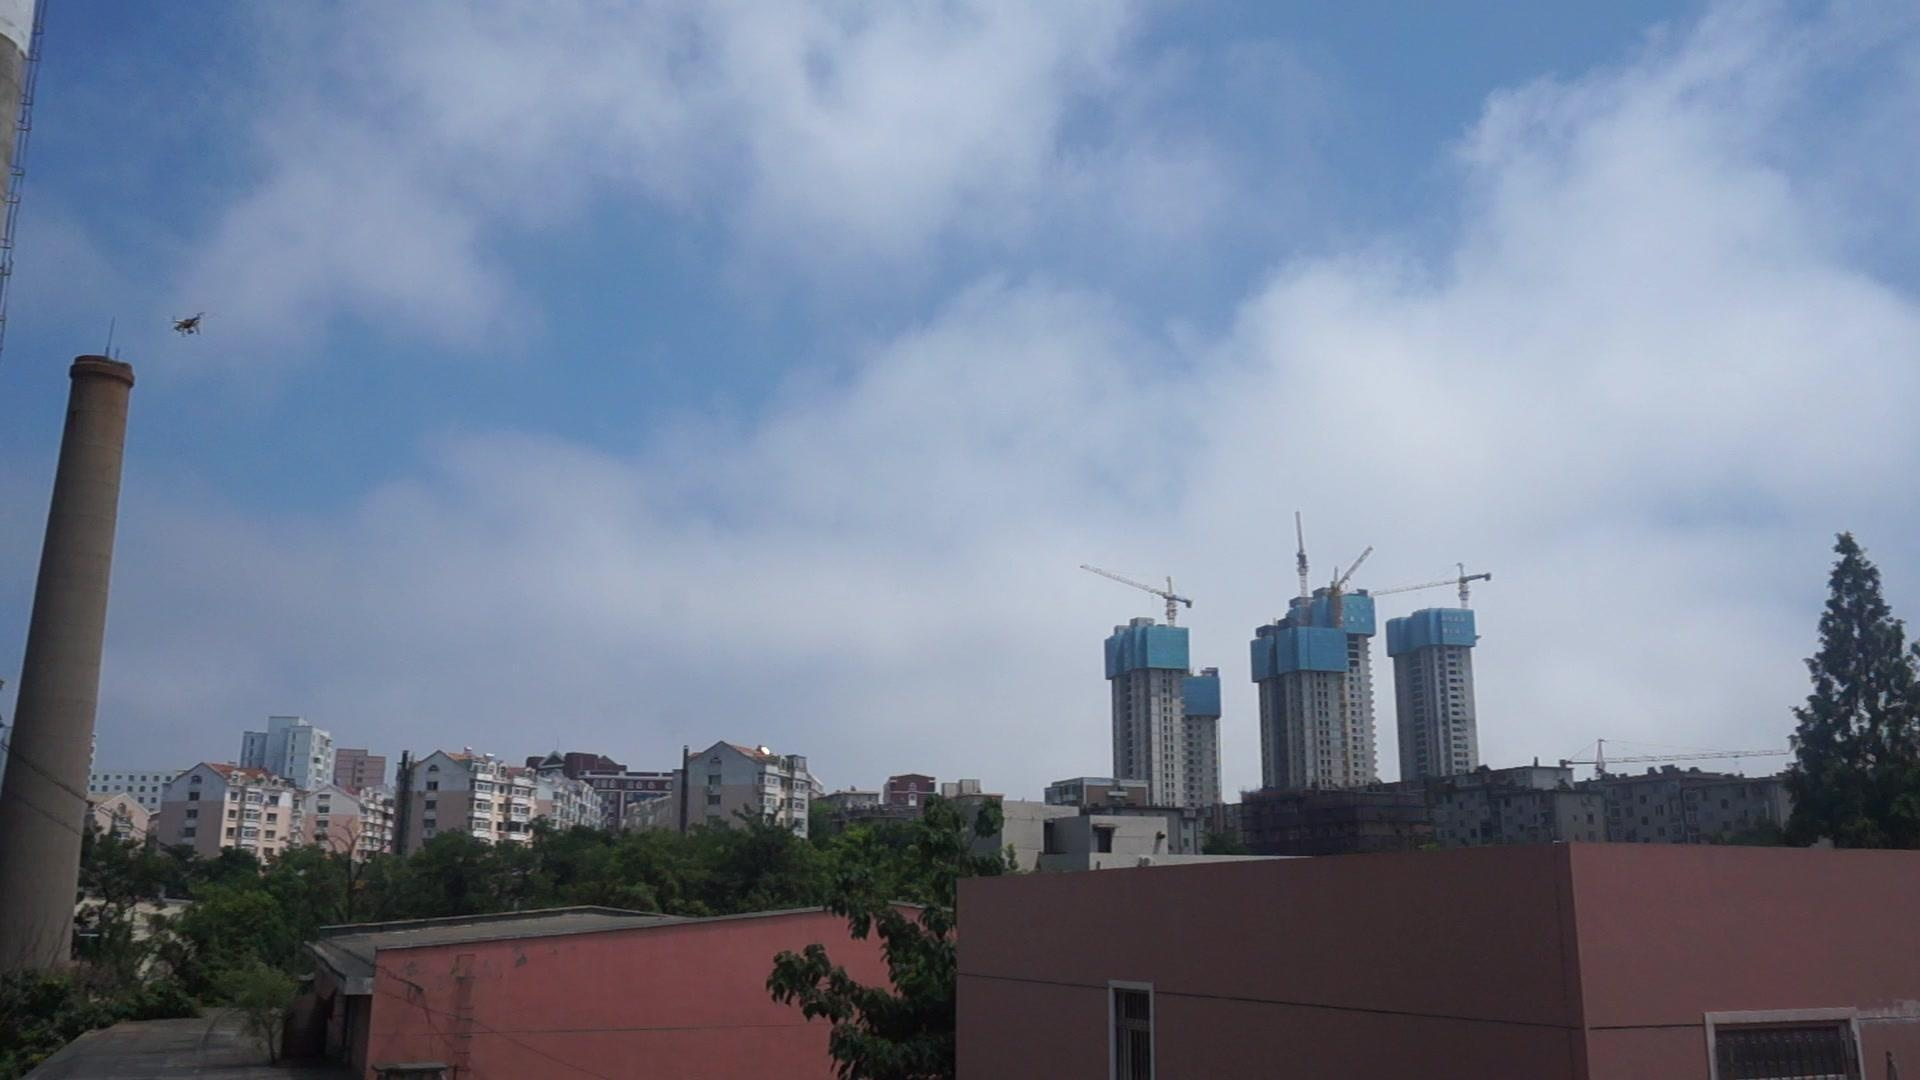UAV: (171, 311, 208, 338)
